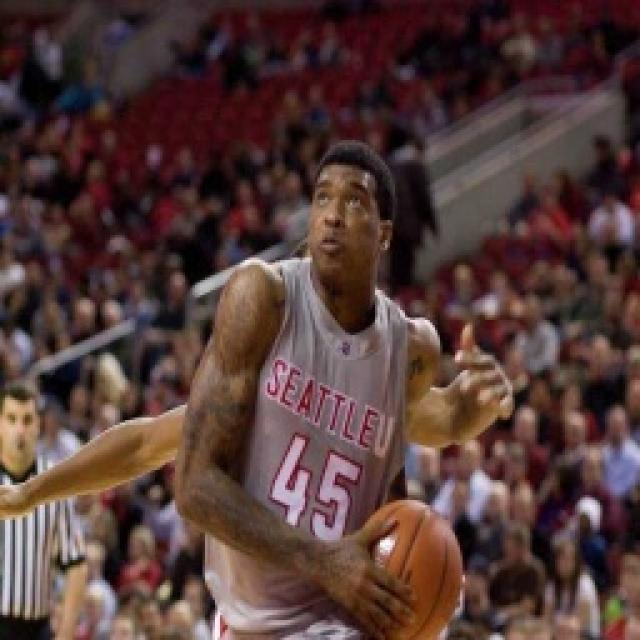rim: (348, 493, 467, 640)
